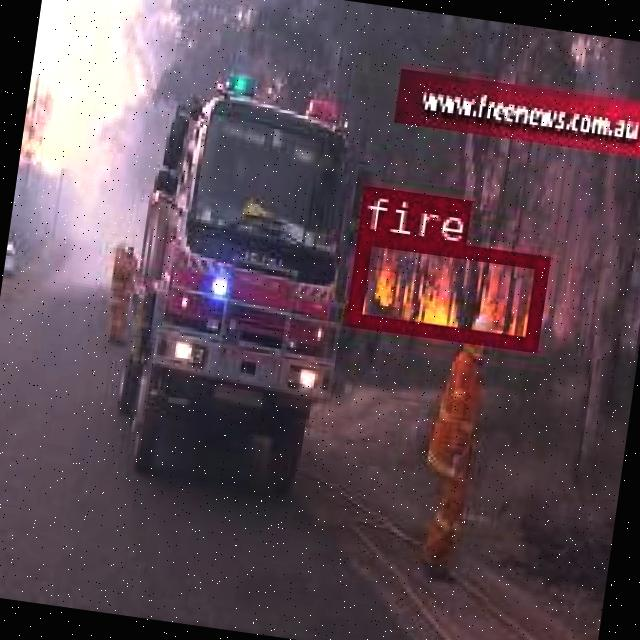fire: (343, 227, 548, 350)
